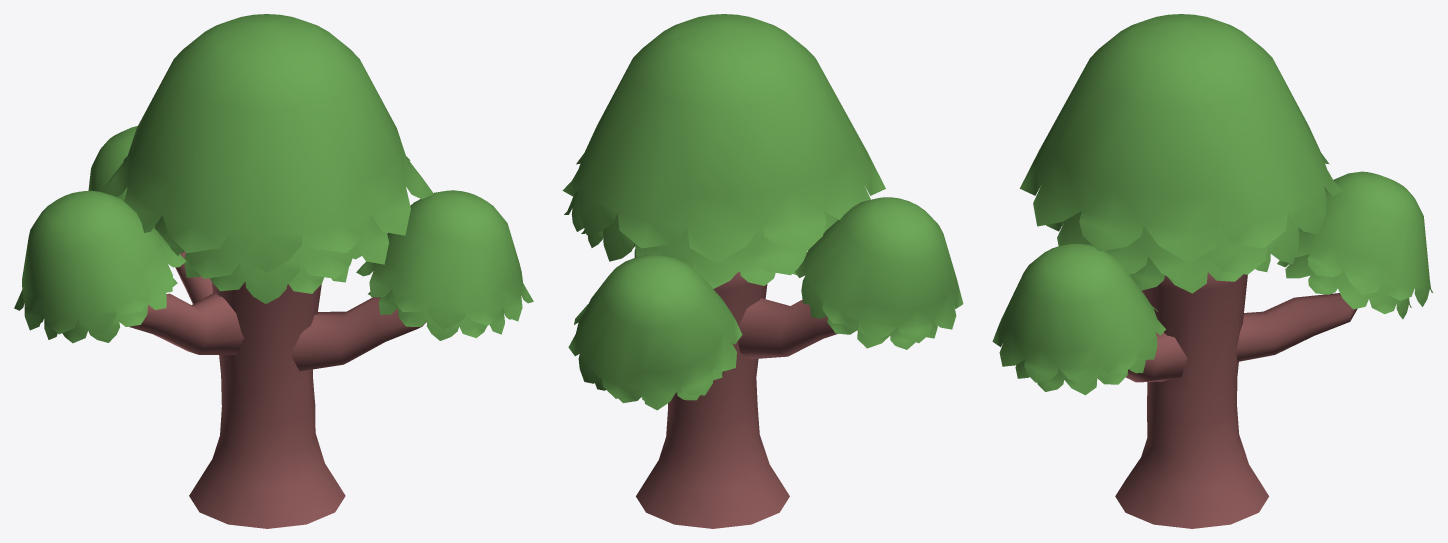
File: Toy160.fbx
3 views of the same model, side by side, from view 1: azimuth 30°, elevation 25°; view 2: azimuth 150°, elevation 25°; view 3: azimuth 270°, elevation 25° (orthographic).
Parts seen in each view (by area): view 1: Toy160; view 2: Toy160; view 3: Toy160.
Boxes of the visible parts, x1=… form: Toy160: x1=14, y1=14, x2=533, y2=528; Toy160: x1=562, y1=14, x2=963, y2=528; Toy160: x1=992, y1=14, x2=1432, y2=528.
Size of the model in its own units: 0.2424 by 0.2528 by 0.2157.
